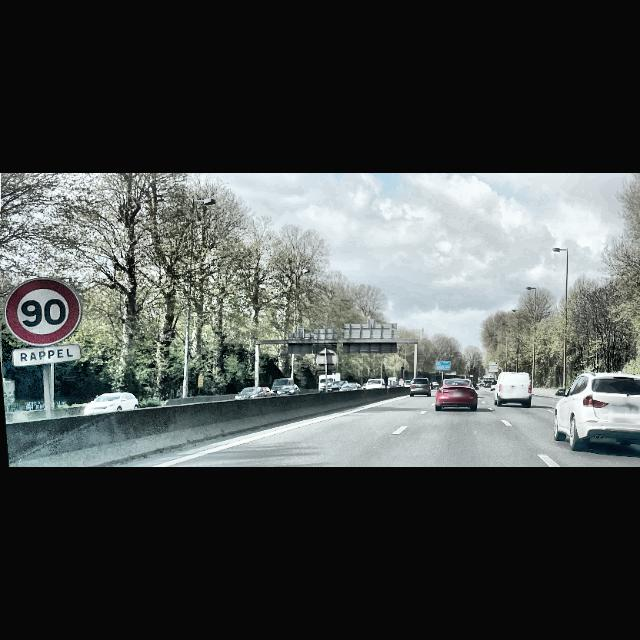speed_90: (4, 279, 82, 347)
